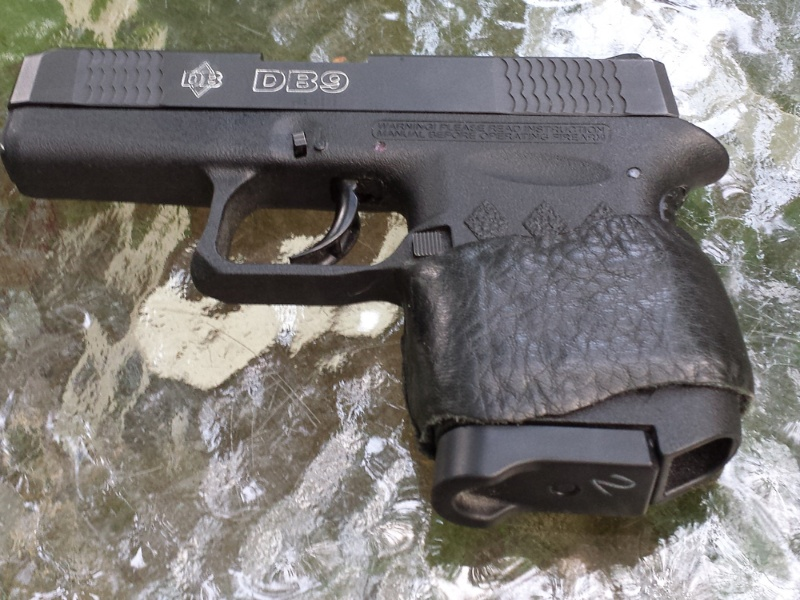gun: (10, 39, 756, 507)
